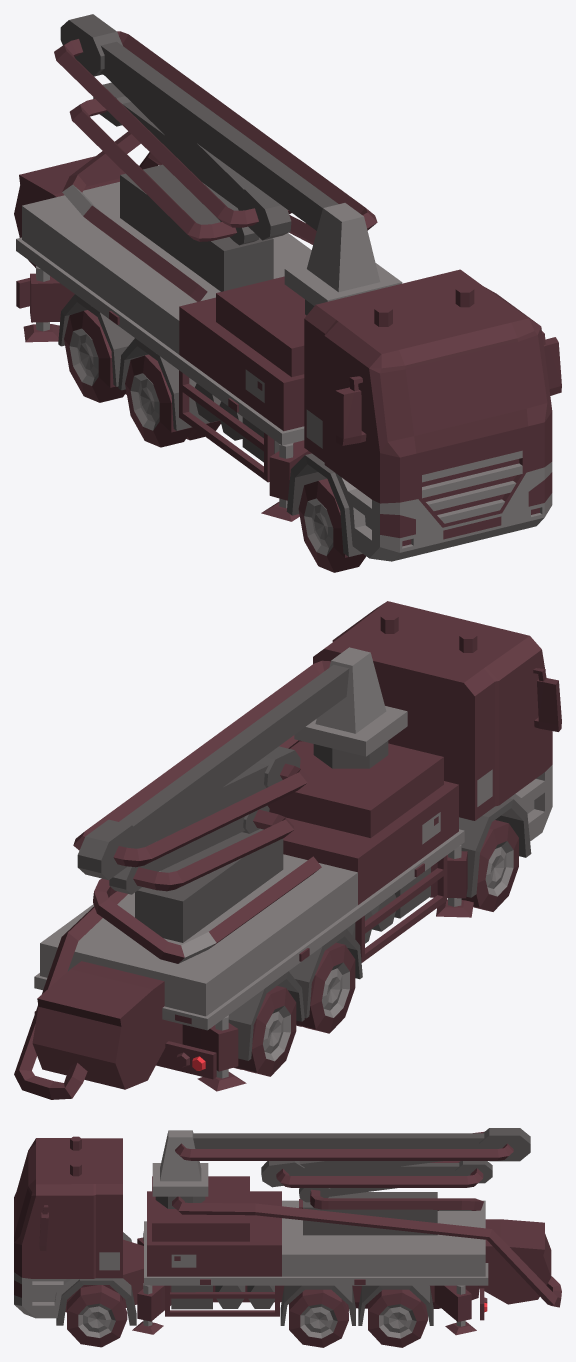
Rendered from car-truck-concrete-pump.fbx.
3 views of the same model, one above another, from view 1: azimuth 30°, elevation 25°; view 2: azimuth 150°, elevation 25°; view 3: azimuth 270°, elevation 25° (orthographic). The views are drawn at different scales.
Parts seen in each view (by area): view 1: car-truck-concrete-pump-base, car-truck-concrete-pump-wheel_BR1, car-truck-concrete-pump-wheel_BR2, car-truck-concrete-pump-wheel_FR; view 2: car-truck-concrete-pump-base, car-truck-concrete-pump-wheel_BR1, car-truck-concrete-pump-wheel_BR2, car-truck-concrete-pump-wheel_FR; view 3: car-truck-concrete-pump-base, car-truck-concrete-pump-wheel_FL, car-truck-concrete-pump-wheel_BL1, car-truck-concrete-pump-wheel_BL2.
Part boxes in pixels (left/top/right/bottom): car-truck-concrete-pump-base: left=14, top=14, right=561, bottom=561; car-truck-concrete-pump-wheel_BR1: left=125, top=354, right=220, bottom=447; car-truck-concrete-pump-wheel_BR2: left=64, top=310, right=126, bottom=402; car-truck-concrete-pump-wheel_FR: left=298, top=479, right=365, bottom=572; car-truck-concrete-pump-base: left=14, top=601, right=561, bottom=1099; car-truck-concrete-pump-wheel_BR1: left=296, top=942, right=355, bottom=1033; car-truck-concrete-pump-wheel_BR2: left=233, top=986, right=296, bottom=1076; car-truck-concrete-pump-wheel_FR: left=461, top=820, right=518, bottom=911; car-truck-concrete-pump-base: left=14, top=1128, right=561, bottom=1335; car-truck-concrete-pump-wheel_FL: left=67, top=1285, right=127, bottom=1347; car-truck-concrete-pump-wheel_BL1: left=289, top=1289, right=348, bottom=1347; car-truck-concrete-pump-wheel_BL2: left=368, top=1289, right=427, bottom=1347.
Size of the model in its own units: 2.99 by 3.74 by 9.85.
